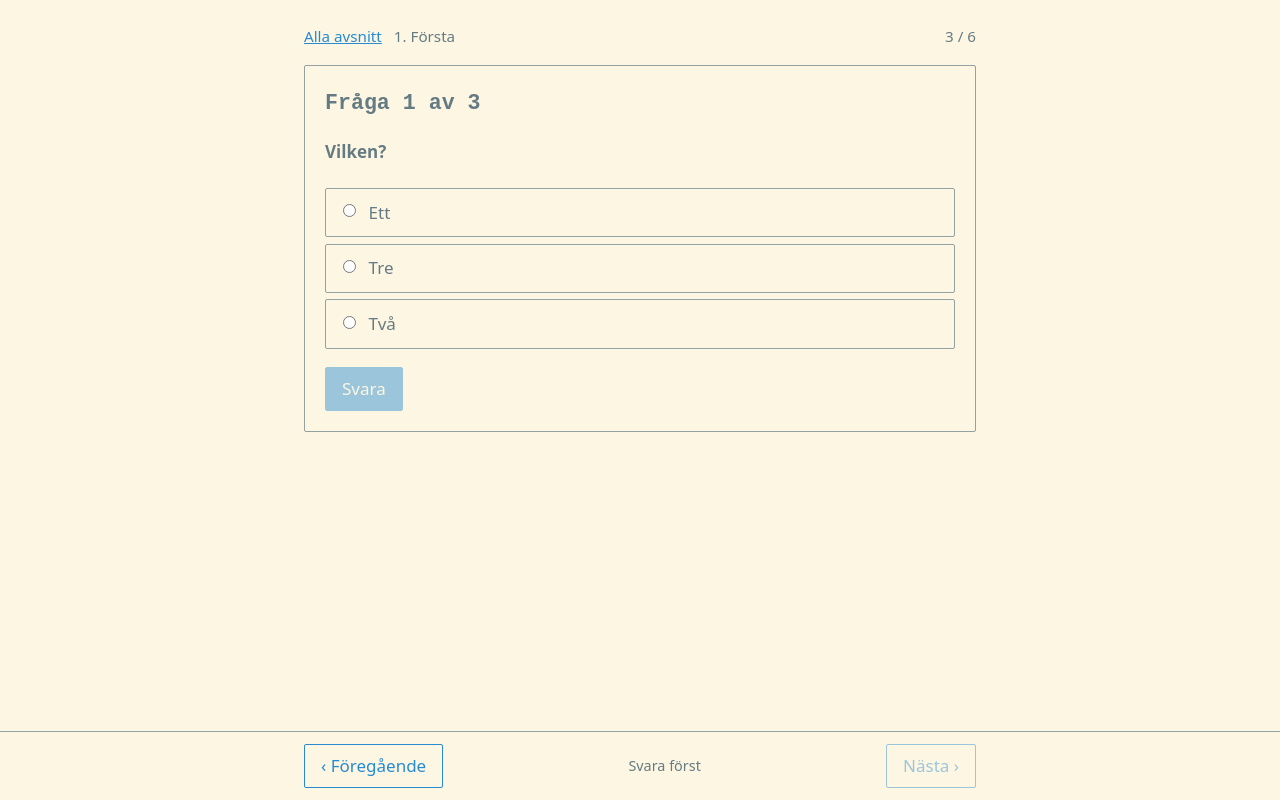
Test case: Deck › blocks moving past an unanswered question until it is answered, right or wrong
Expected: the button "Nästa ›" is disabled, [886,744,976,788]
Expected: the text "Svara först" is shown, [628,754,701,778]
Press ArrowRight
Expected: the heading reads "Fråga 1 av 3", [325,91,480,115]
Press ArrowLeft in the radio button labelled "Ett", box [343,204,356,217]
Expected: the heading reads "Fråga 1 av 3", [325,91,480,115]
Click the radio button labelled "Ett" at (350, 211), box [343,204,356,217]
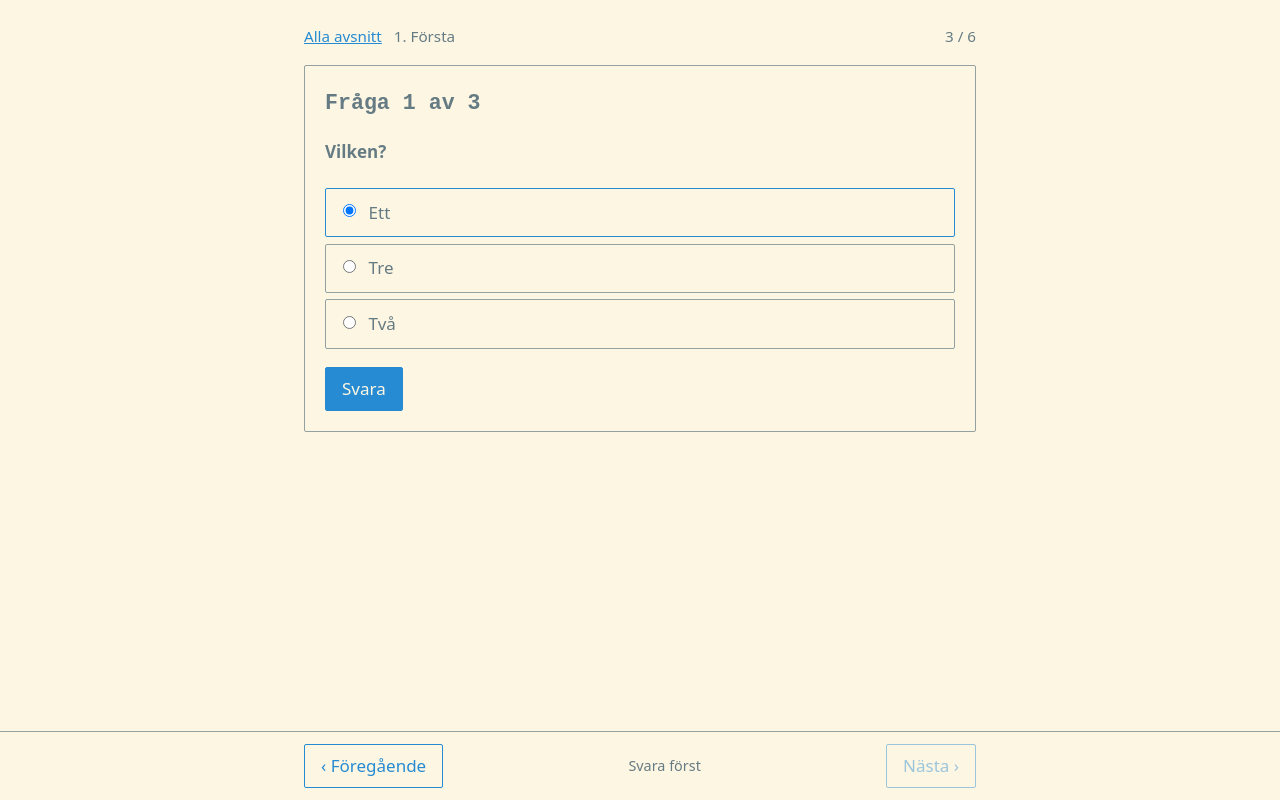
Click the button "Svara" at (364, 389), box [325,367,403,411]
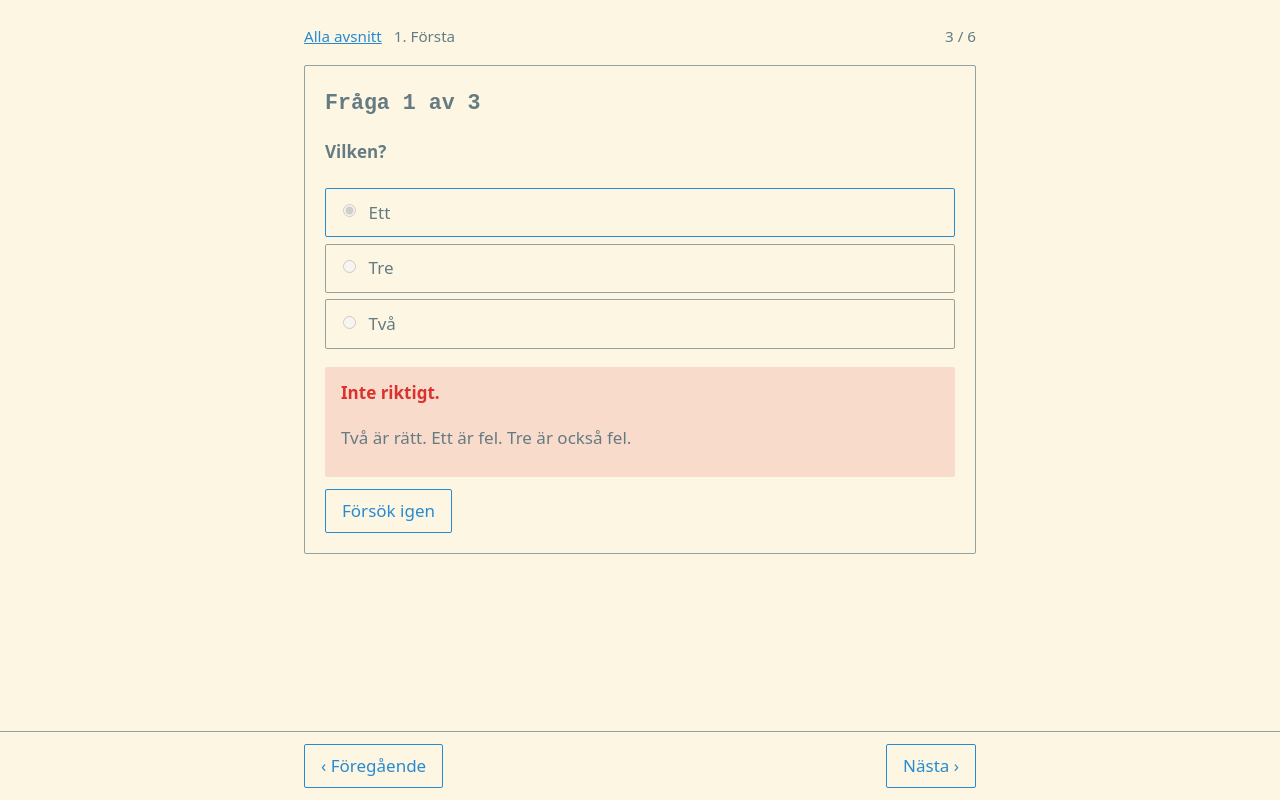
Expected: the text "Inte riktigt." is shown, [341,381,440,404]
Expected: the button "Nästa ›" is enabled
Click the button "Nästa ›" at (931, 766), box [886,744,976,788]
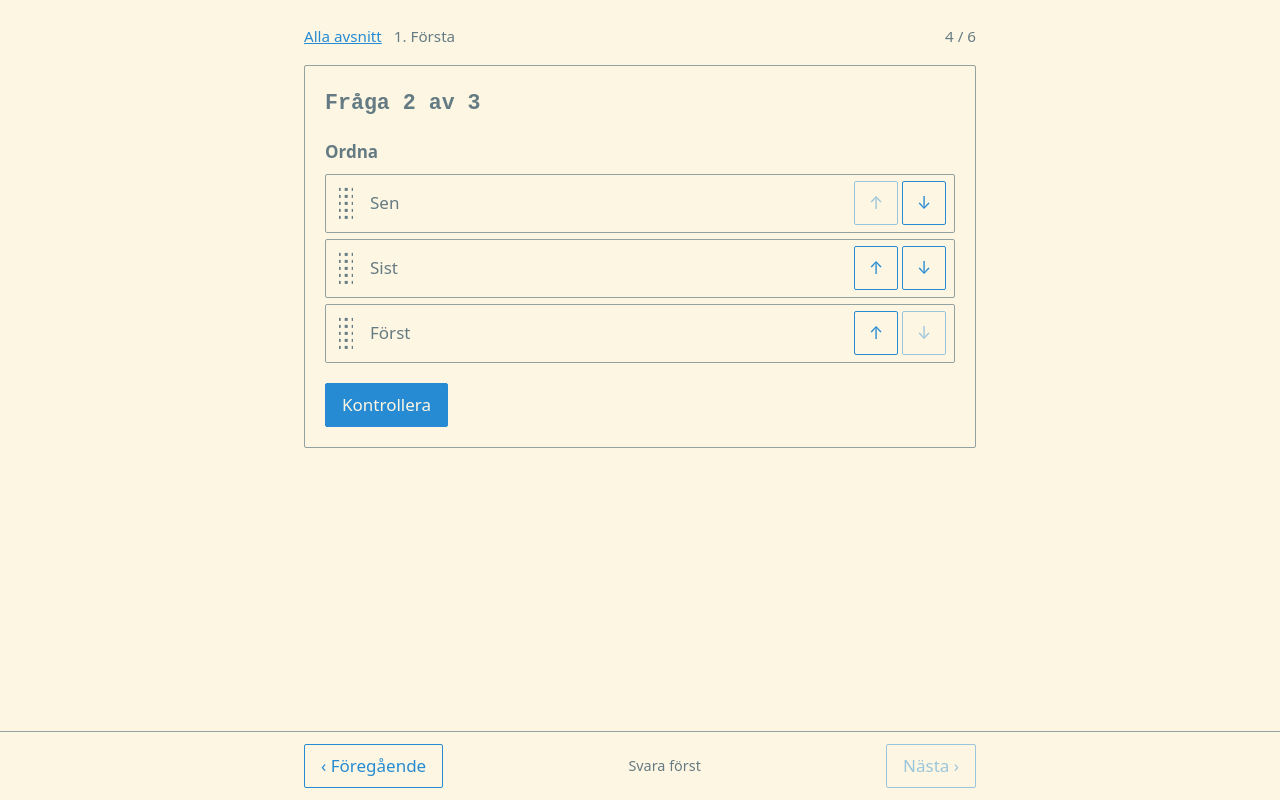
Expected: the heading reads "Fråga 2 av 3", [325,91,480,115]
